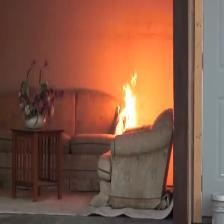fire: (112, 73, 149, 128)
